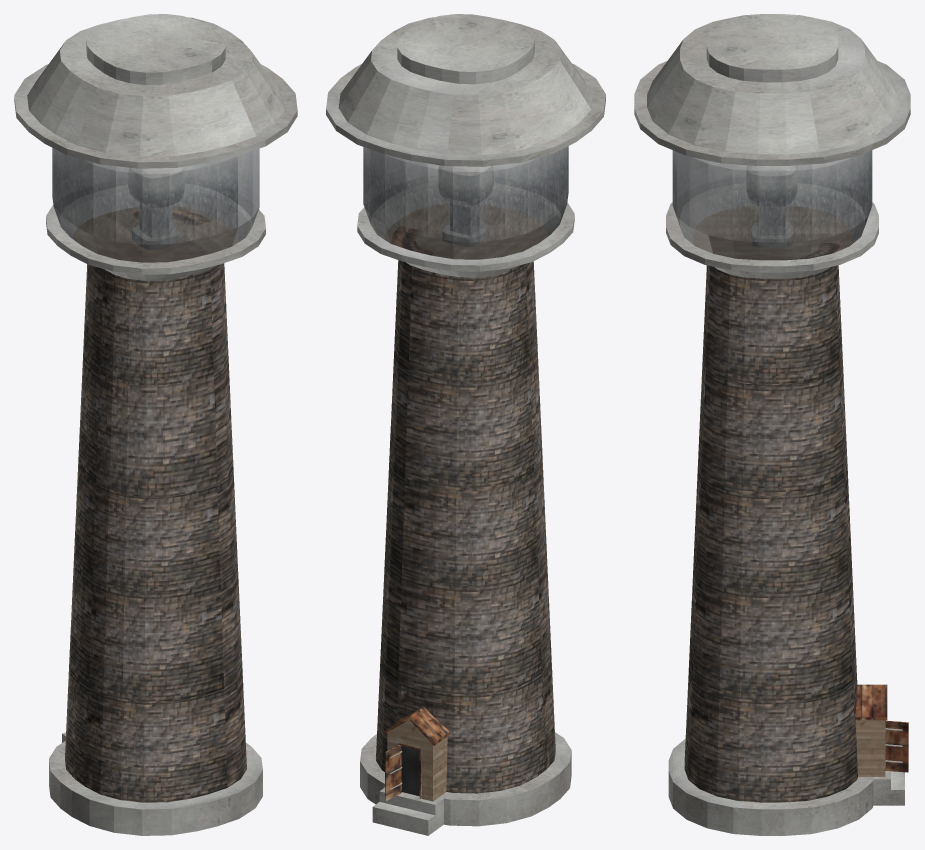
File: lighthouse.fbx
3 renders of one model, left to right at view 1: azimuth 30°, elevation 25°; view 2: azimuth 150°, elevation 25°; view 3: azimuth 270°, elevation 25°, orthographic.
Parts seen in each view (by area): view 1: lighthouse, lighthouse_roof, lighthouse_glass.001, lighthouse_glass.002; view 2: lighthouse, lighthouse_roof, lighthouse_glass.001, lighthouse_glass.002; view 3: lighthouse, lighthouse_roof, lighthouse_glass.001, lighthouse_glass.002.
Part boxes in pixels (bbox=[...]): lighthouse: bbox=[49, 263, 262, 835]; lighthouse_roof: bbox=[14, 14, 297, 280]; lighthouse_glass.001: bbox=[52, 148, 259, 262]; lighthouse_glass.002: bbox=[52, 148, 259, 262]; lighthouse: bbox=[360, 260, 571, 835]; lighthouse_roof: bbox=[326, 14, 605, 277]; lighthouse_glass.001: bbox=[363, 146, 568, 259]; lighthouse_glass.002: bbox=[363, 146, 568, 259]; lighthouse: bbox=[668, 265, 908, 835]; lighthouse_roof: bbox=[634, 14, 910, 278]; lighthouse_glass.001: bbox=[672, 150, 872, 260]; lighthouse_glass.002: bbox=[672, 151, 872, 260].
Size of the model in its own units: 3509 by 10501 by 3509.
